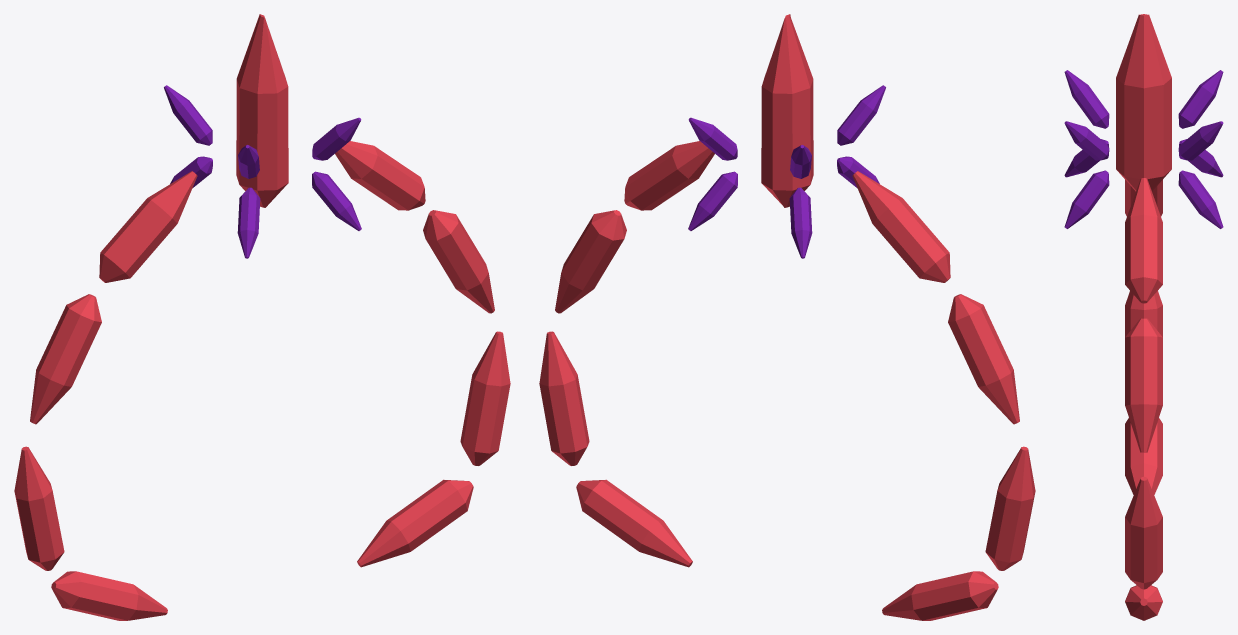
Rendered from Portal.fbx.
3 renders of one model, left to right at view 1: azimuth 30°, elevation 25°; view 2: azimuth 150°, elevation 25°; view 3: azimuth 270°, elevation 25°, orthographic. The views are drawn at different scales.
Visible parts, largest first — view 1: PortalMain, PortalSmallCrystals; view 2: PortalMain, PortalSmallCrystals; view 3: PortalMain, PortalSmallCrystals.
Boxes of the visible parts, bbox=[...] form: PortalMain: bbox=[14, 14, 510, 620]; PortalSmallCrystals: bbox=[164, 85, 361, 258]; PortalMain: bbox=[539, 14, 1035, 620]; PortalSmallCrystals: bbox=[688, 85, 885, 258]; PortalMain: bbox=[1116, 14, 1171, 620]; PortalSmallCrystals: bbox=[1064, 70, 1223, 228].
Bounding box in the file's own units: 209 × 233 × 61.82.
